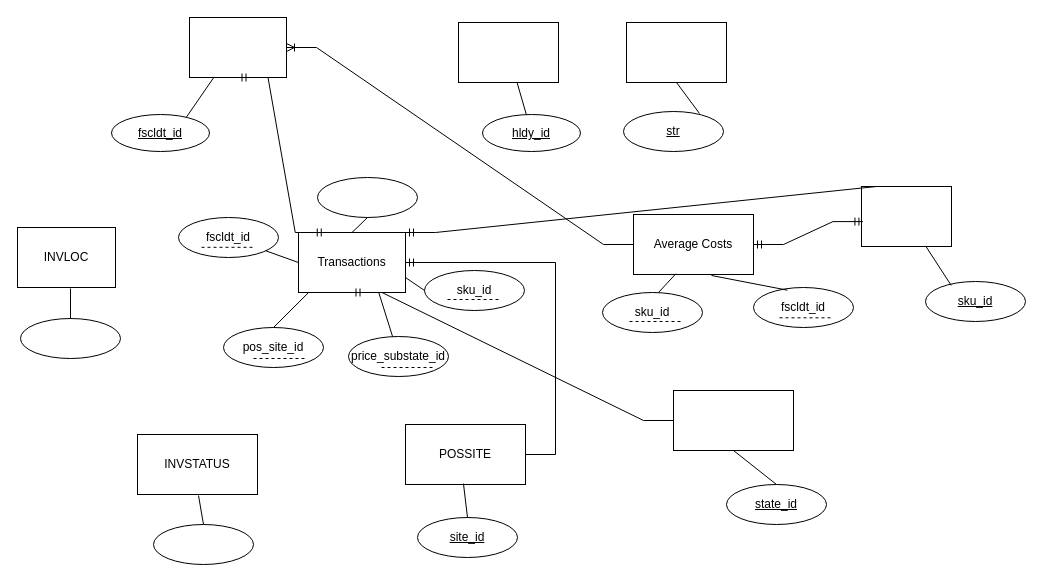
The diagram is 1043 pixels wide and 582 high, and some of its shapes have lost their labels. The shapes that lost their labels are listed below. From the top down, each one's centre as x and y in pixels, then its label:
At point 237,47: "CLND".
At point 508,52: "HLDY".
At point 676,52: "RTLLOC".
At point 367,197: "order_id".
At point 906,216: "PROD".
At point 70,338: "loc".
At point 733,420: "PRICE STATE".
At point 203,544: "code_id".
